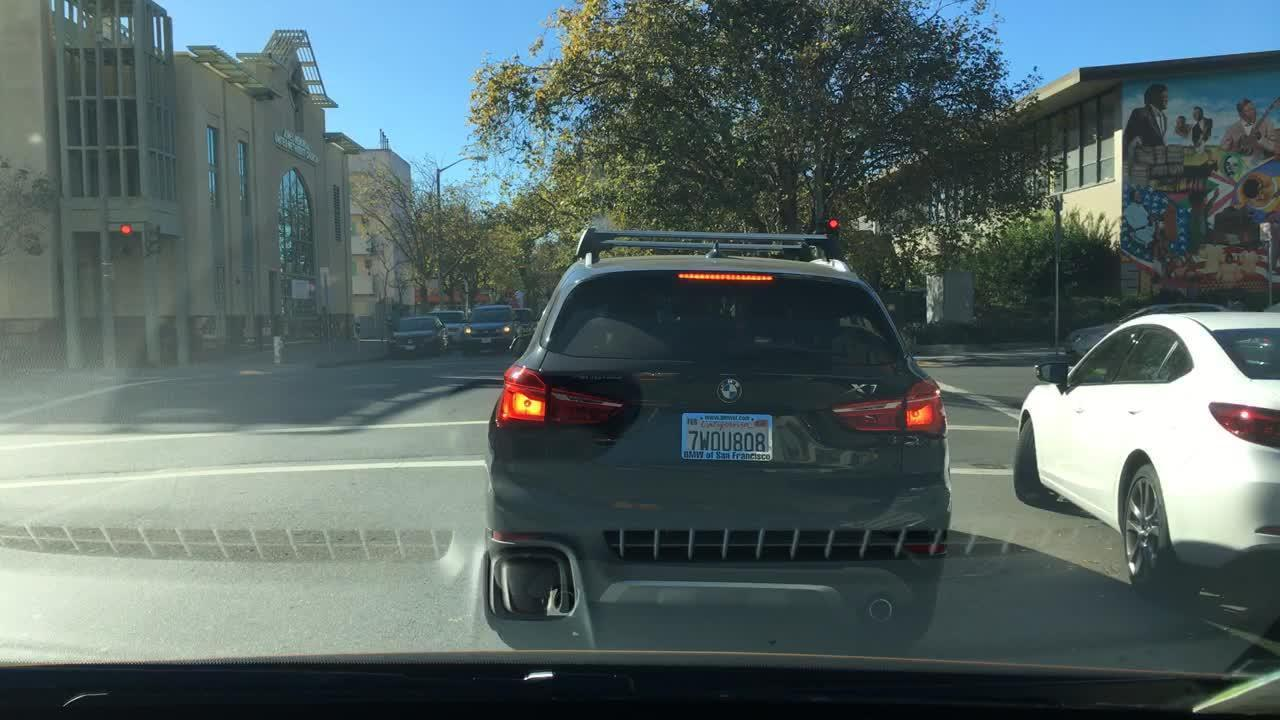bmw: (717, 377, 743, 405)
